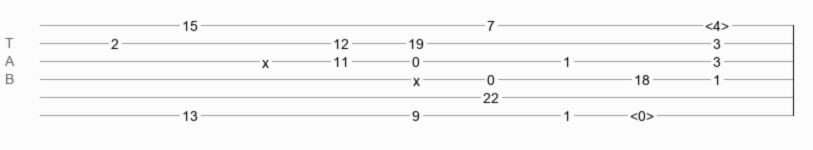0: (412, 54, 420, 64), (487, 72, 495, 82)
1: (563, 54, 571, 64), (563, 108, 571, 118), (713, 72, 721, 82)
11: (333, 54, 349, 64)
12: (333, 36, 349, 46)
13: (182, 108, 198, 118)
15: (182, 18, 198, 28)
18: (634, 72, 650, 82)
19: (408, 36, 424, 46)
2: (111, 36, 119, 46)
22: (483, 90, 499, 100)
3: (713, 36, 721, 46), (713, 54, 721, 64)
7: (487, 18, 495, 28)
9: (412, 108, 420, 118)
harmonic: (630, 108, 654, 118), (705, 18, 729, 28)
x: (262, 55, 269, 63), (413, 73, 420, 81)
